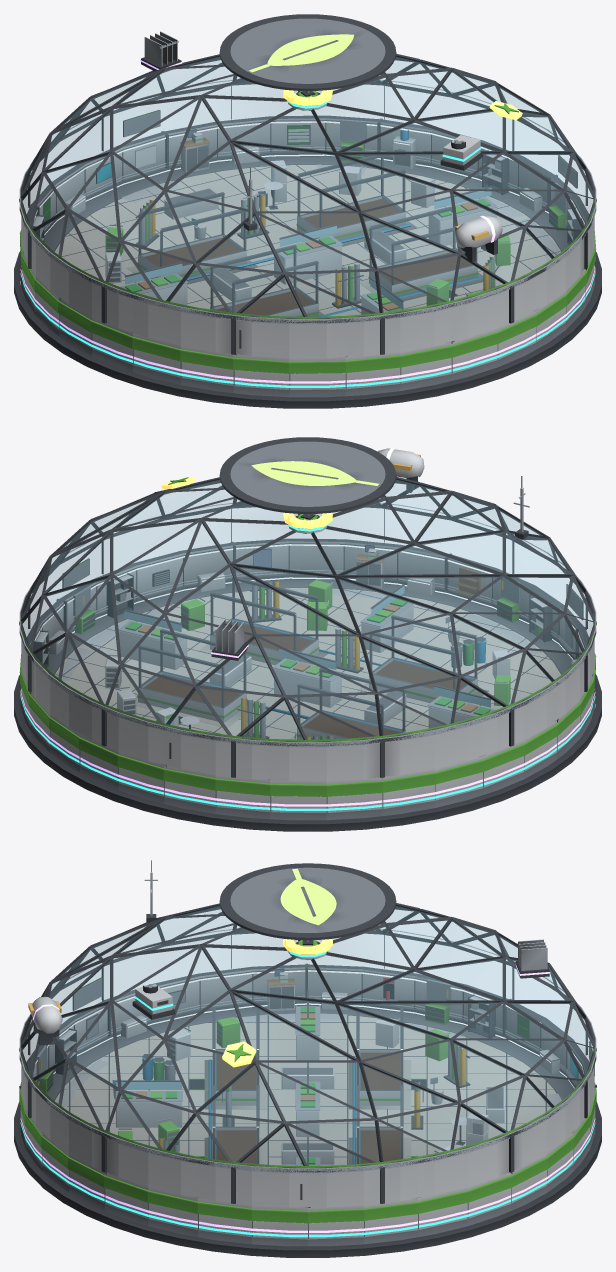
File: greenhouse_m_far.glb
The picture shows the model from 3 angles, top to bottom: view 1: azimuth 30°, elevation 25°; view 2: azimuth 150°, elevation 25°; view 3: azimuth 270°, elevation 25°; orthographic projection.
Parts seen in each view (by area): view 1: Roof, Base, Interior, L4, L2, L3, L5; view 2: Roof, Base, Interior, L2, L4, L3, L5; view 3: Roof, Base, Interior, L4, L2, L3, L5.
Boxes of the visible parts, x1,y1,x2,y2 form: Roof: [19, 14, 596, 358]; Base: [14, 115, 601, 408]; Interior: [63, 155, 559, 316]; L4: [20, 31, 595, 383]; L2: [19, 79, 596, 324]; L3: [20, 90, 595, 387]; L5: [283, 89, 522, 120]; Roof: [19, 437, 596, 781]; Base: [14, 538, 601, 831]; Interior: [56, 577, 541, 739]; L2: [19, 476, 596, 747]; L4: [20, 448, 595, 806]; L3: [20, 513, 595, 810]; L5: [161, 477, 332, 528]; Roof: [19, 863, 596, 1207]; Base: [14, 963, 601, 1257]; Interior: [56, 991, 561, 1165]; L4: [20, 939, 595, 1232]; L2: [19, 860, 596, 1173]; L3: [20, 939, 595, 1237]; L5: [222, 939, 332, 1067].
Size of the model in its own units: 17.76 by 7.78 by 17.76.
